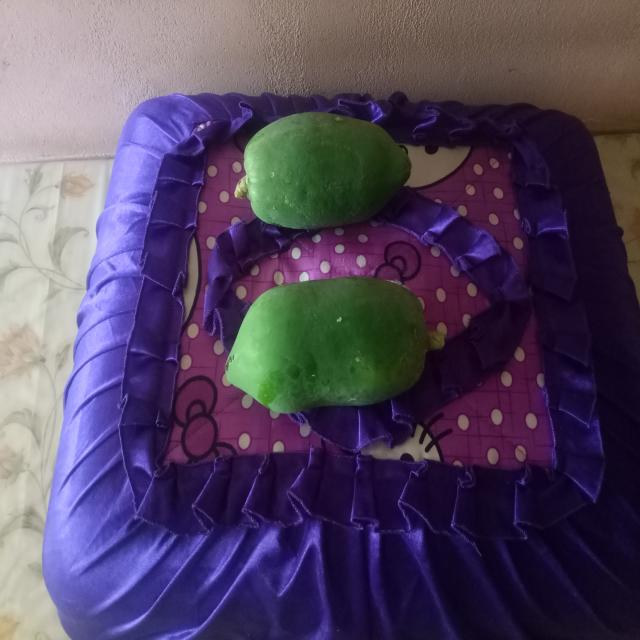Pepaya unrippen: (215, 282, 431, 424), (233, 99, 420, 231)
